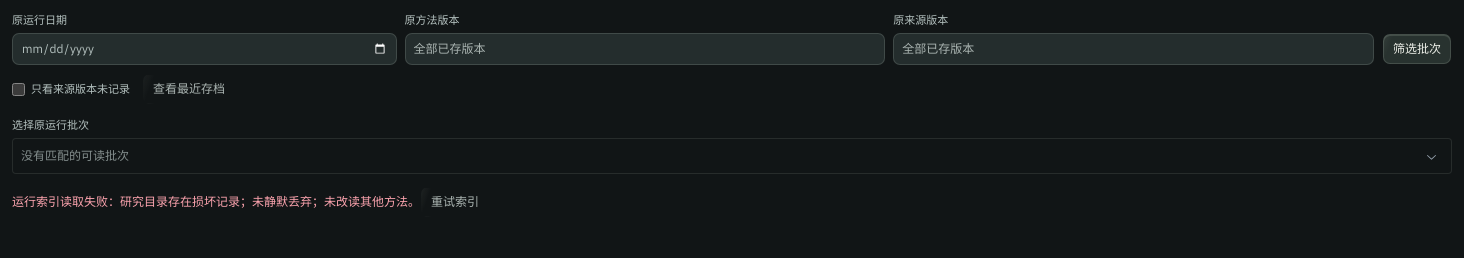
Test: saved method run reader › a 409 damaged research index renders an error rather than zero records, and explicit retry keeps research semantics
Check: the message shows "运行索引读取失败：研究目录存在损坏记录", box x1=12 y1=186 x2=490 y2=218
Check: the text "所查扫描范围没有可读取" is not shown
Click the button "重试索引" at point(455, 202), box x1=420 y1=186 x2=490 y2=218
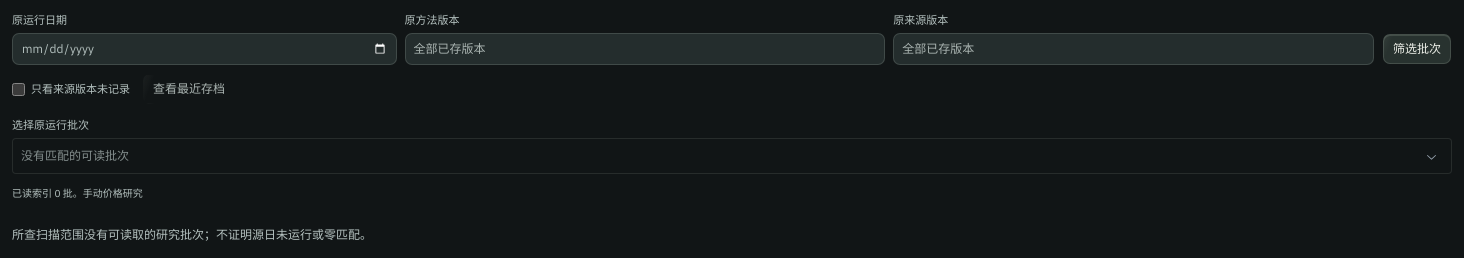
Check: the text "所查扫描范围没有可读取的研究批次；不证明源日未运行或零匹配。" is shown, box x1=12 y1=227 x2=372 y2=242
Check: the message "运行索引读取失败：研究目录存在损坏记录；未静默丢弃；未改读其他方法。 重试索引" is gone
